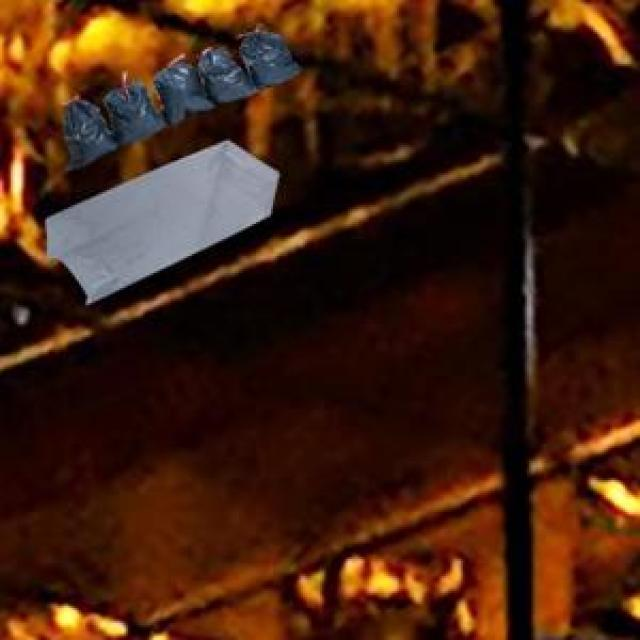miscellaneous trash: (60, 26, 297, 166)
